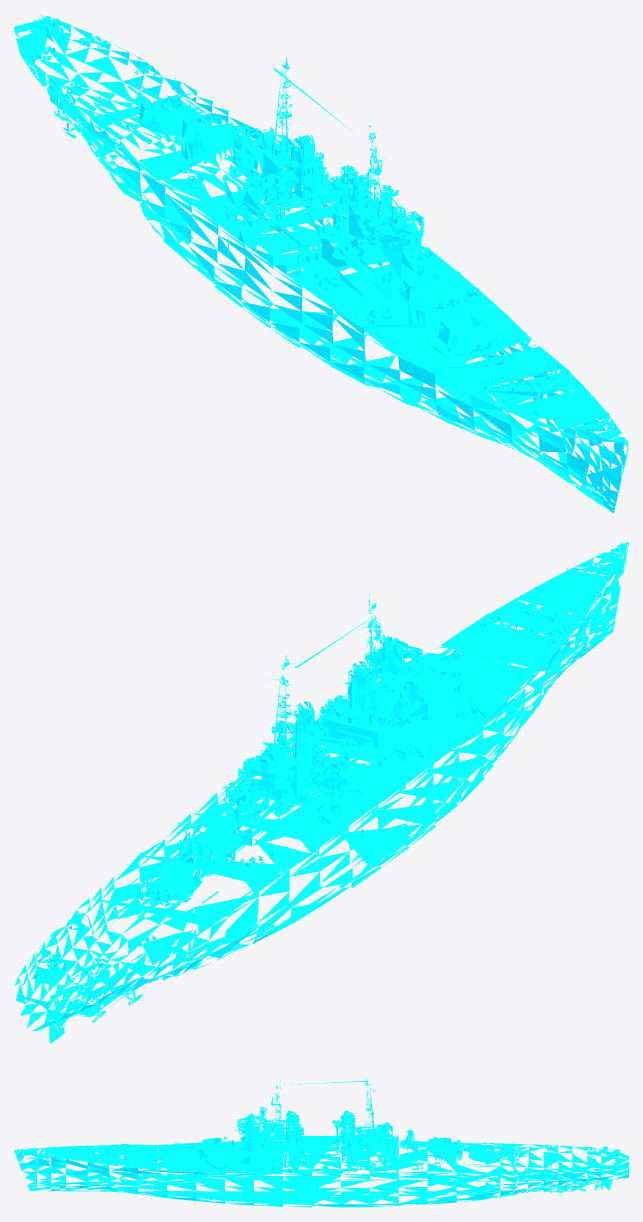
Rendered from Conqueror.glb.
3 renders of one model, top to bottom at view 1: azimuth 30°, elevation 25°; view 2: azimuth 150°, elevation 25°; view 3: azimuth 270°, elevation 25°, orthographic. The views are drawn at different scales.
Bounding box in the file's own units: 2.47 × 3.85 × 18.14.
